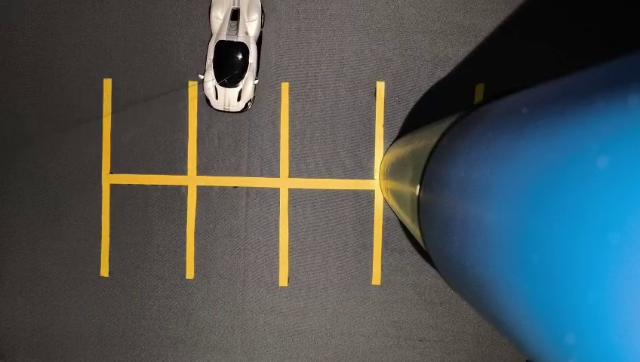toy_car: (187, 0, 323, 127)
